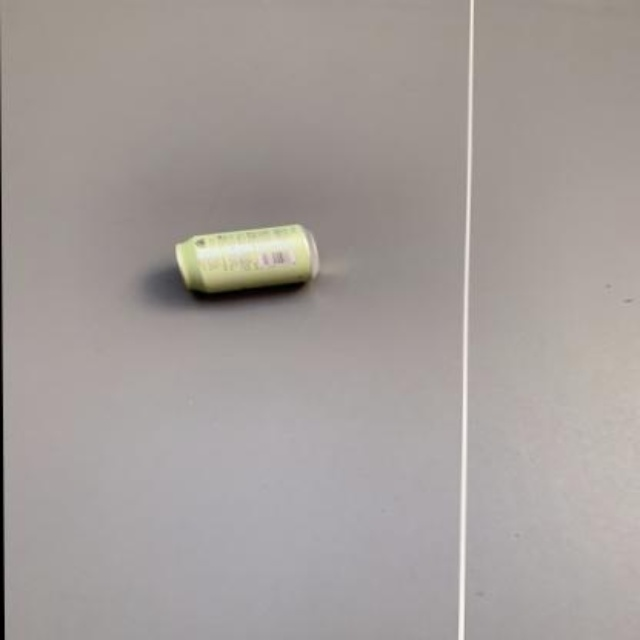trash: (175, 225, 317, 292)
